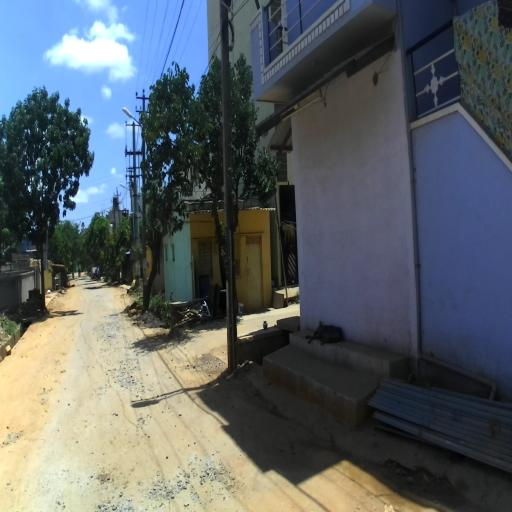street_light_0: (122, 106, 145, 138), (120, 182, 132, 196), (106, 210, 110, 212)
